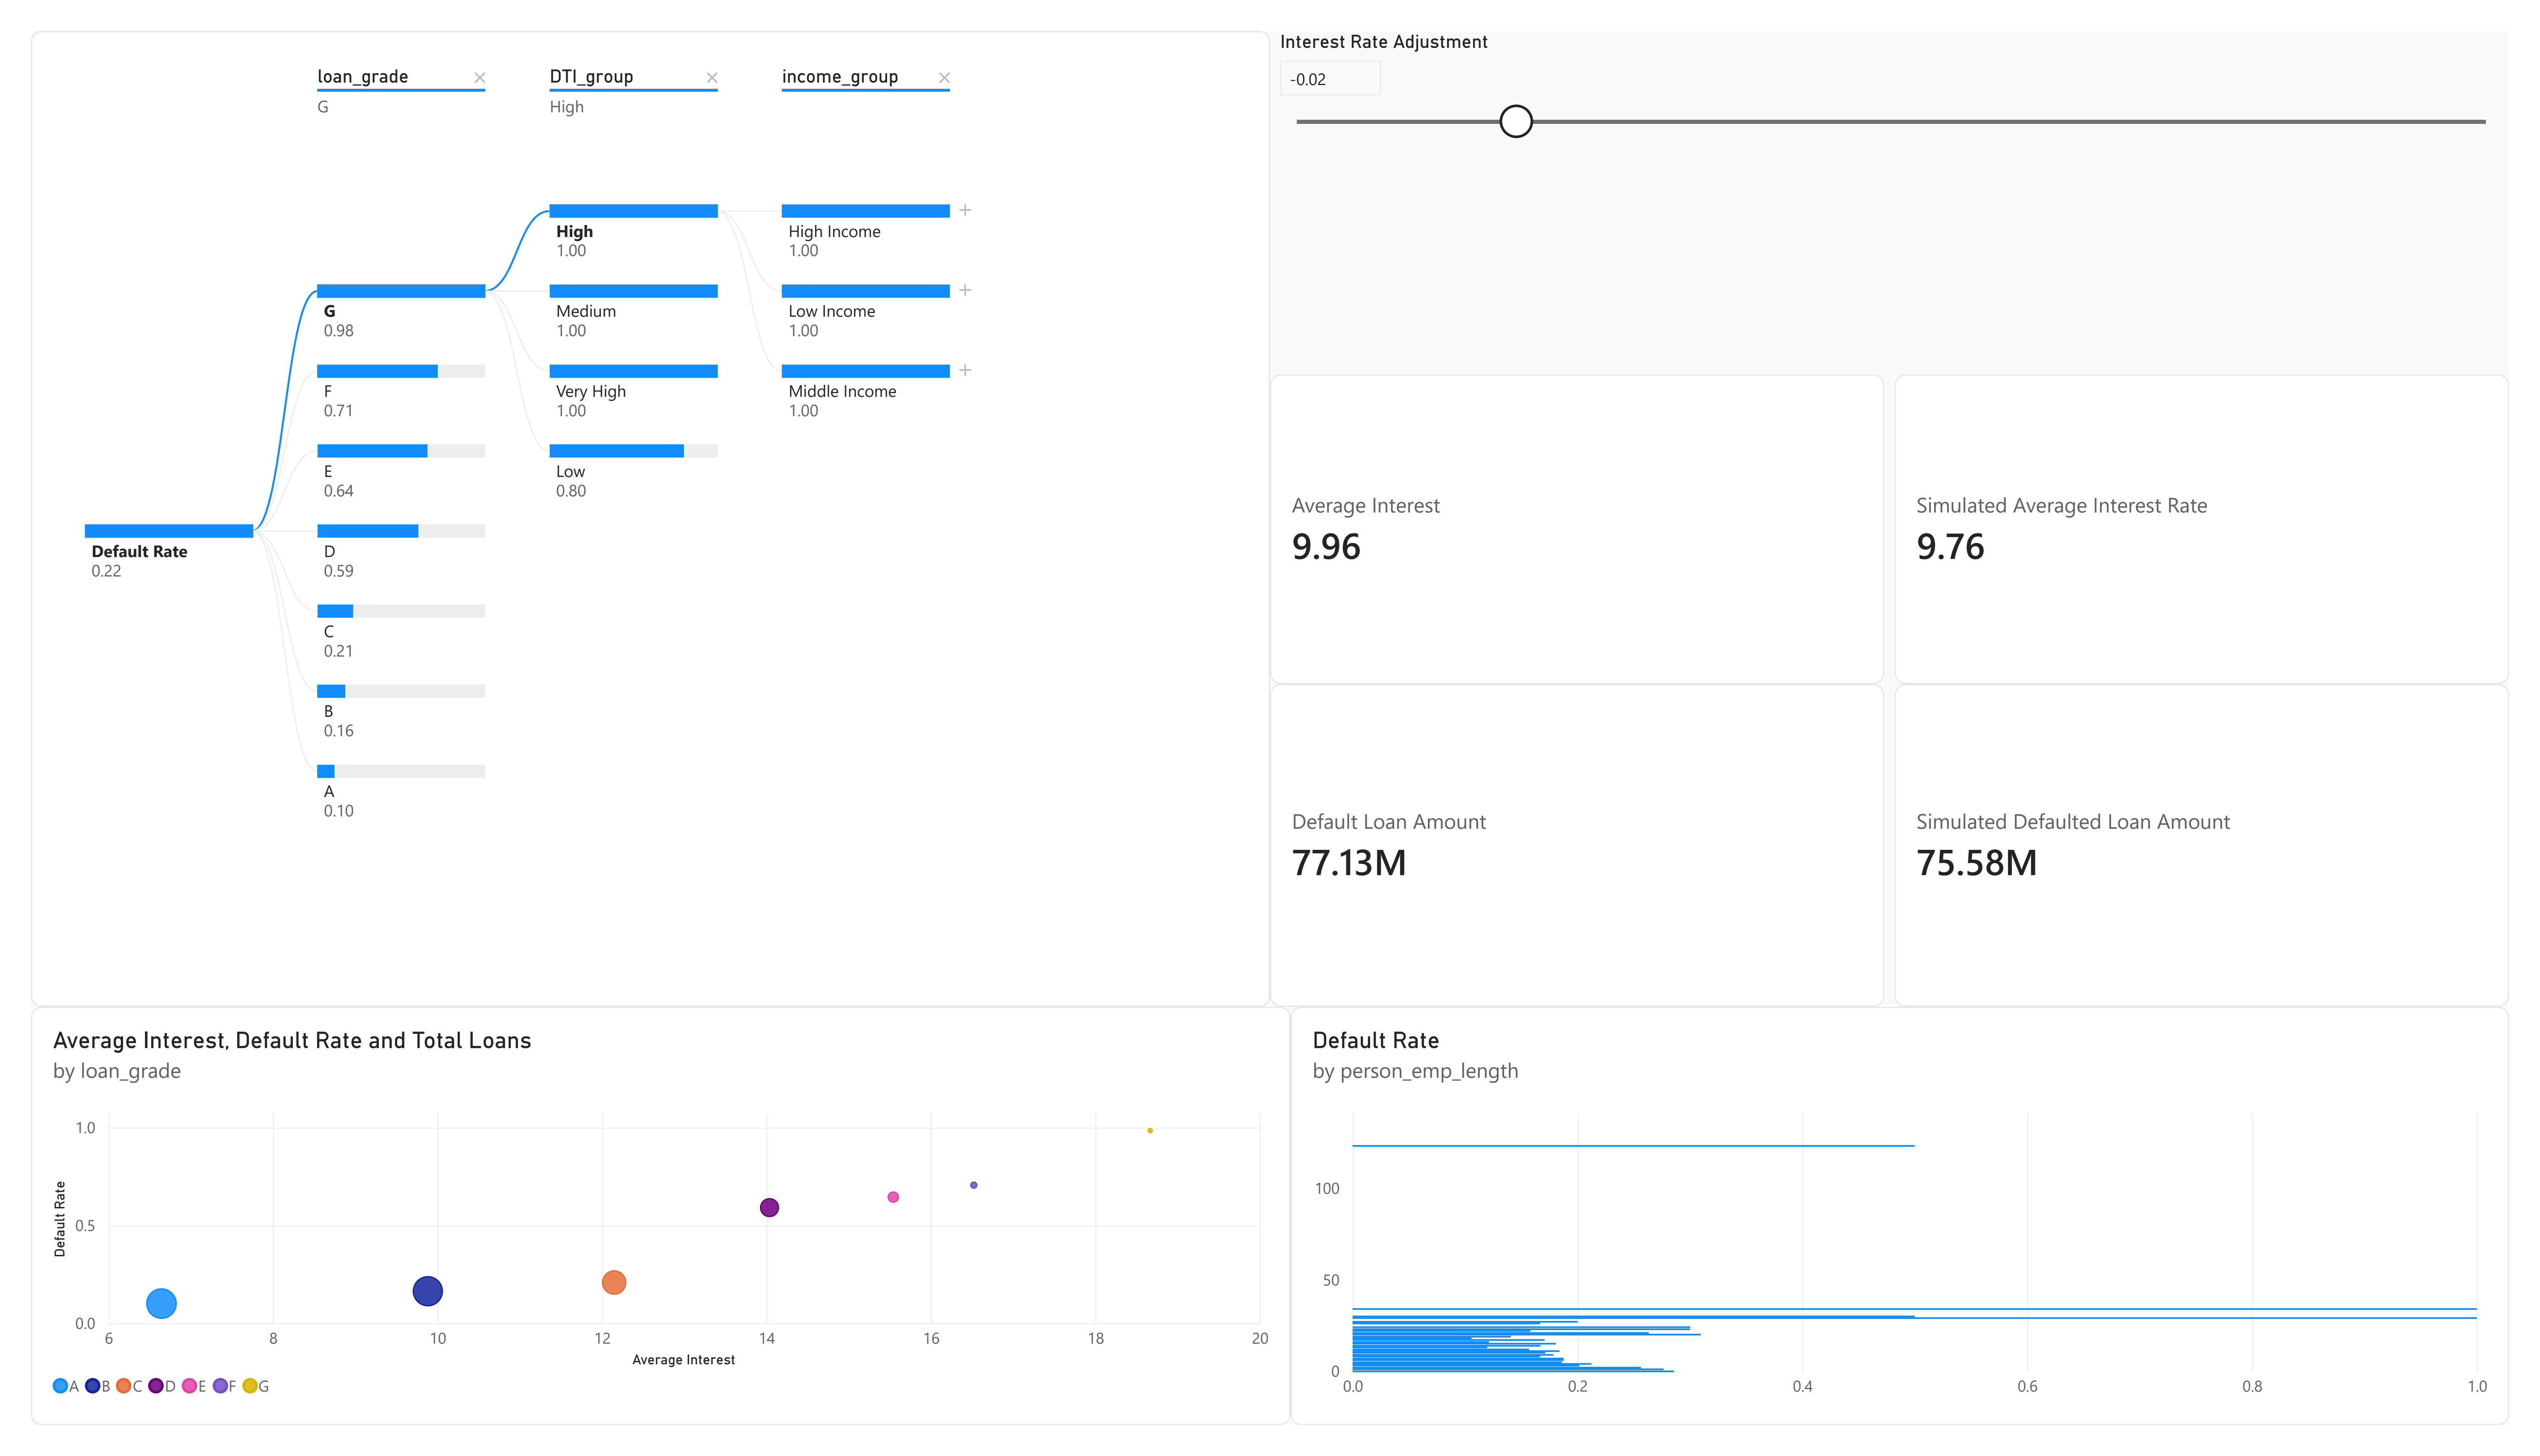

Layout of this report page (visuals, bound fields, positions):
{"tool":"powerbi","page":{"name":"Risk Driver Analysis","canvas":[1920,1080],"ordinal":1},"visuals":[{"type":"decompositionTreeVisual","fields":{"Analyze":["credit_risk_dataset.Default Rate"],"ExplainBy":["credit_risk_dataset.loan_grade","credit_risk_dataset.DTI_group","credit_risk_dataset.income_group","credit_risk_dataset.person_home_ownership","credit_risk_dataset.loan_intent"]},"box":[0,0,960,756],"z":0},{"type":"slicer","fields":{"Values":["Interest Rate Adjustment.Interest Rate Adjustment"]},"box":[960,0,960,282],"z":1},{"type":"cardVisual","fields":{"Data":["credit_risk_dataset.Average Interest","Interest Rate Adjustment.Simulated Average Interest Rate"]},"box":[960,266,960,240],"z":2},{"type":"cardVisual","fields":{"Data":["credit_risk_dataset.Default Loan Amount","Interest Rate Adjustment.Simulated Defaulted Loan Amount"]},"box":[960,506,960,250],"z":3},{"type":"scatterChart","fields":{"Series":["credit_risk_dataset.loan_grade"],"Size":["credit_risk_dataset.Total Loans"],"X":["credit_risk_dataset.Average Interest"],"Y":["credit_risk_dataset.Default Rate"]},"box":[0,756,976,324],"z":4},{"type":"barChart","fields":{"Category":["credit_risk_dataset.person_emp_length"],"Y":["credit_risk_dataset.Default Rate"]},"box":[976,756,944,324],"z":5}]}

Visuals, with their boxes on the page's 1920x1080 design canvas (x1, y1, x2, y2). These are canvas units, not pixel positions in the 2540x1456 screenshot, which may show the page scaled, cropped or inside an application window:
decompositionTreeVisual - credit_risk_dataset.Default Rate x credit_risk_dataset.loan_grade: (x1=0, y1=0, x2=960, y2=756)
slicer - Interest Rate Adjustment.Interest Rate Adjustment: (x1=960, y1=0, x2=1920, y2=282)
cardVisual - credit_risk_dataset.Average Interest x Interest Rate Adjustment.Simulated Average Interest Rate: (x1=960, y1=266, x2=1920, y2=506)
cardVisual - credit_risk_dataset.Default Loan Amount x Interest Rate Adjustment.Simulated Defaulted Loan Amount: (x1=960, y1=506, x2=1920, y2=756)
scatterChart - credit_risk_dataset.loan_grade x credit_risk_dataset.Total Loans: (x1=0, y1=756, x2=976, y2=1080)
barChart - credit_risk_dataset.person_emp_length x credit_risk_dataset.Default Rate: (x1=976, y1=756, x2=1920, y2=1080)
